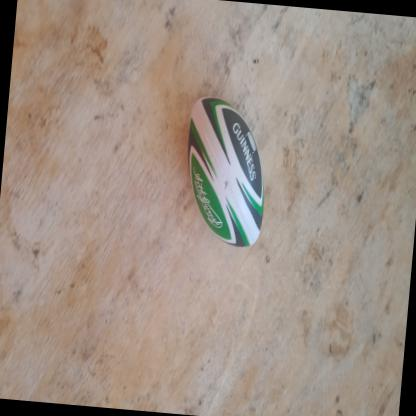Rugby: (176, 93, 274, 252)
